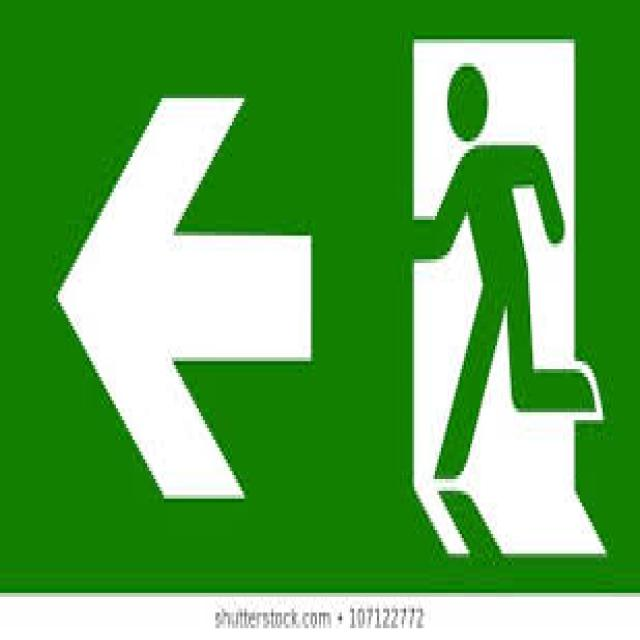exit_sign: (23, 2, 640, 587)
